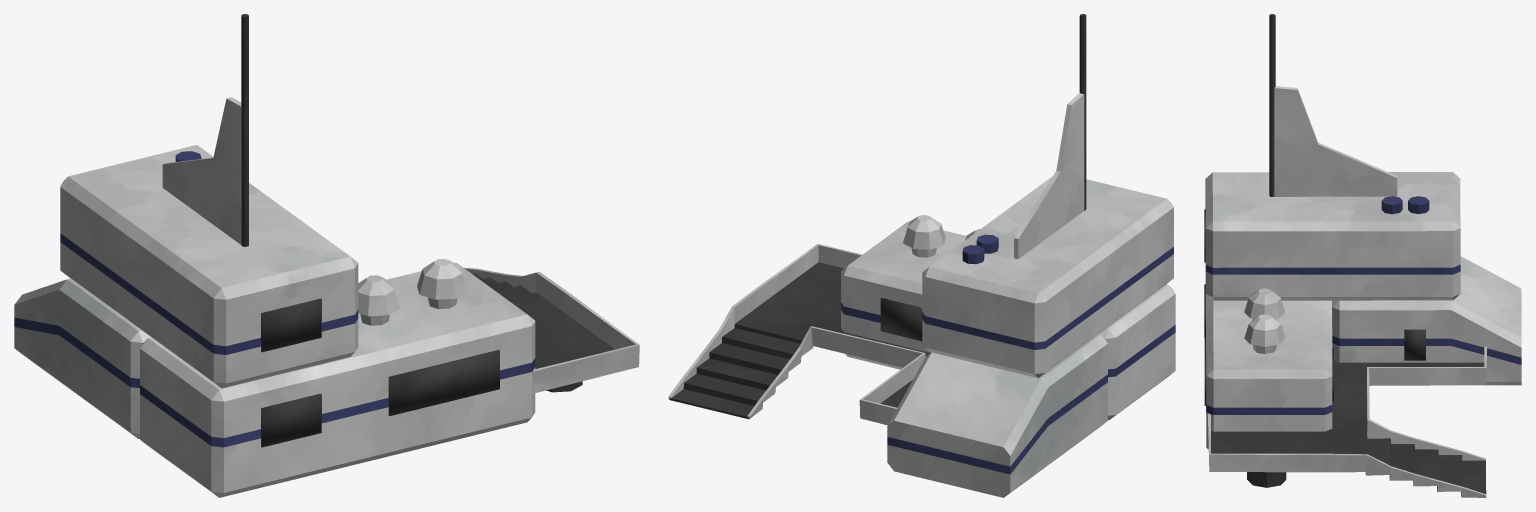
File: ResearchCenter.glb
3 renders of one model, left to right at view 1: azimuth 30°, elevation 25°; view 2: azimuth 150°, elevation 25°; view 3: azimuth 270°, elevation 25°, orthographic. The views are drawn at different scales.
Visible parts, largest first — view 1: Research Center; view 2: Research Center; view 3: Research Center.
Part boxes in pixels (x1,y1,x2,y2): Research Center: (14,14,639,497); Research Center: (668,14,1175,497); Research Center: (1204,14,1521,497).
Size of the model in its own units: 539 by 532 by 441.
1 material, 1 textured.
